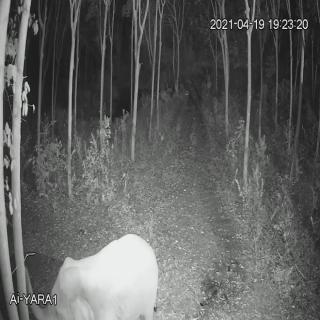Elephant: (20, 230, 158, 320)
